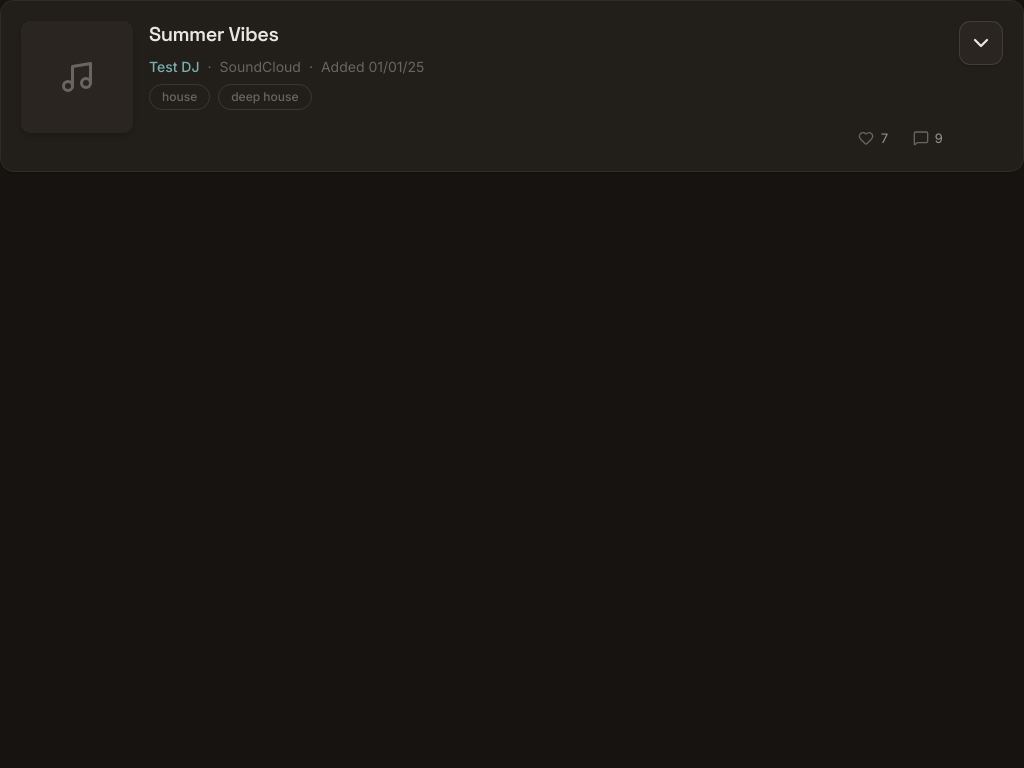
Scenario: MixCard › renders comment count and opens comments modal without navigating
The image size is (1024, 768).
Click the button named "9 comments" at (928, 138), box [909, 126, 947, 151]
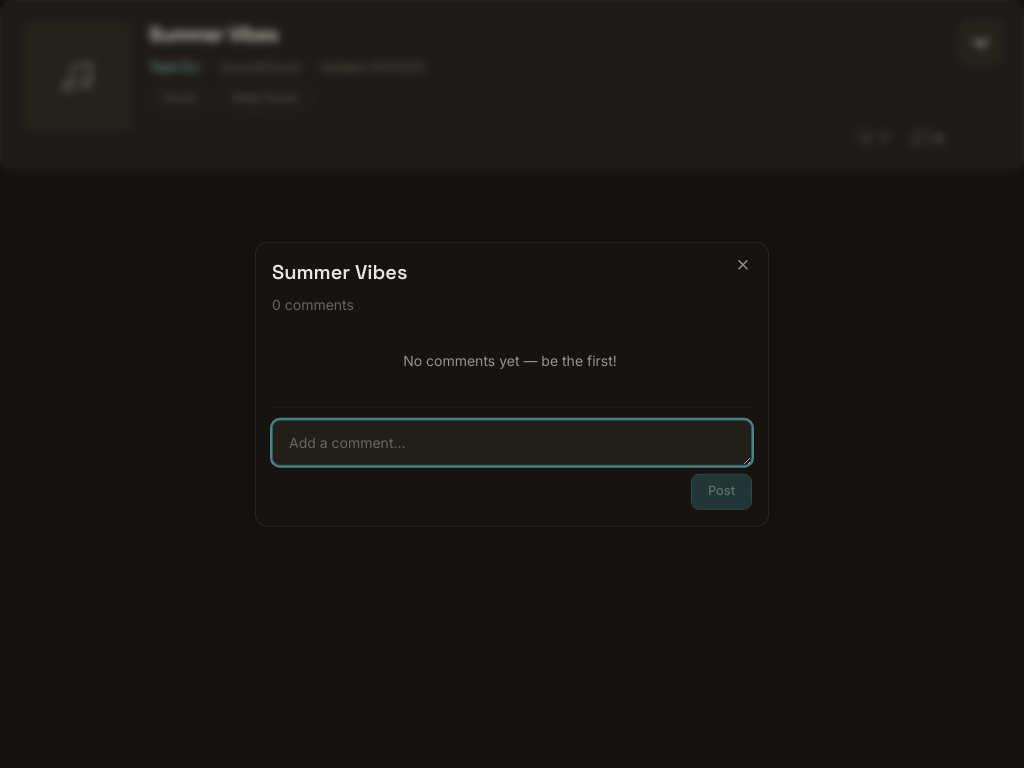
Now the heading "Summer Vibes" is shown, box [272, 259, 407, 285]
